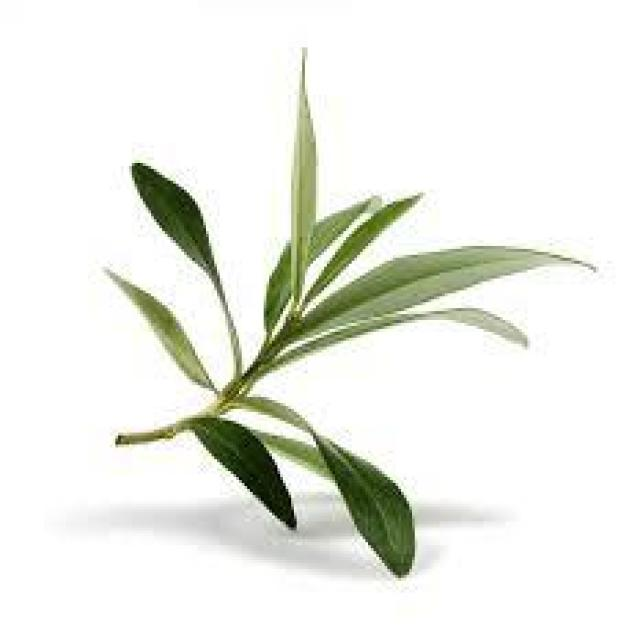Healthy: (110, 273, 212, 388), (305, 196, 418, 296), (195, 421, 294, 527)
